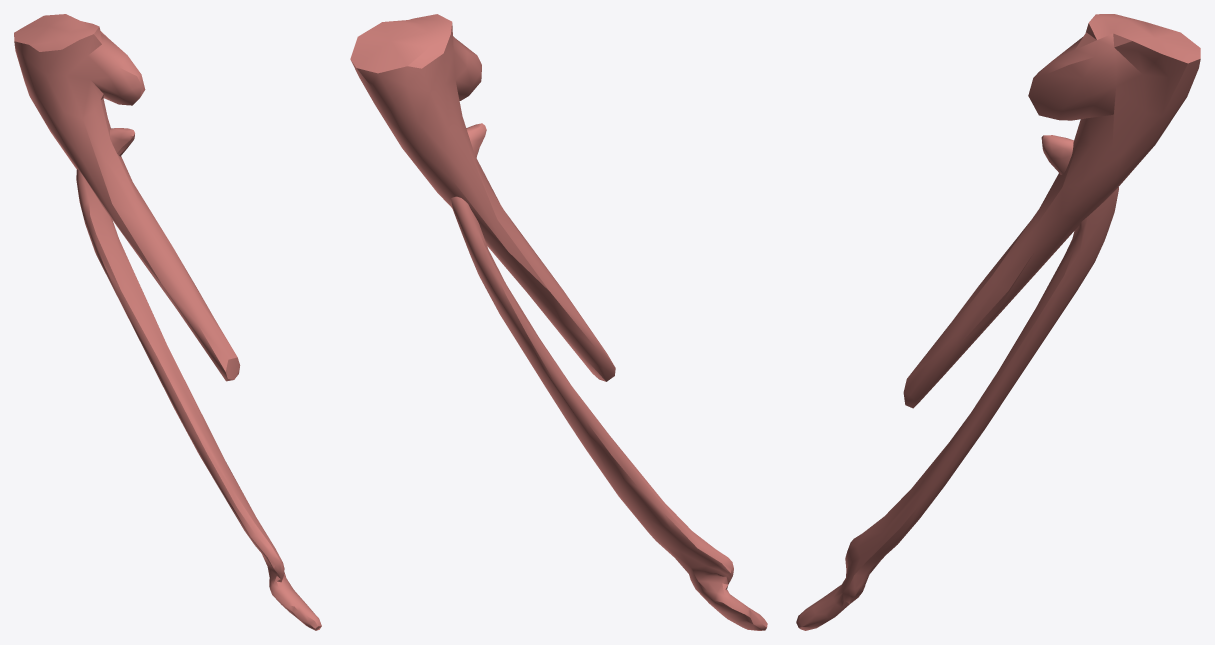
File: fma39662_mm1946m.glb
3 renders of one model, left to right at view 1: azimuth 90°, elevation 25°; view 2: azimuth 150°, elevation 25°; view 3: azimuth 270°, elevation 25°, orthographic. The views are drawn at different scales.
Visible parts, largest first — view 1: FMA39662_MM1946M; view 2: FMA39662_MM1946M; view 3: FMA39662_MM1946M.
Part boxes in pixels (box(x1,y1,x2,y2)): FMA39662_MM1946M: box(14, 14, 321, 630); FMA39662_MM1946M: box(350, 14, 767, 630); FMA39662_MM1946M: box(796, 14, 1200, 630).
Size of the model in its own units: 0.0155 by 0.0419 by 0.022.
